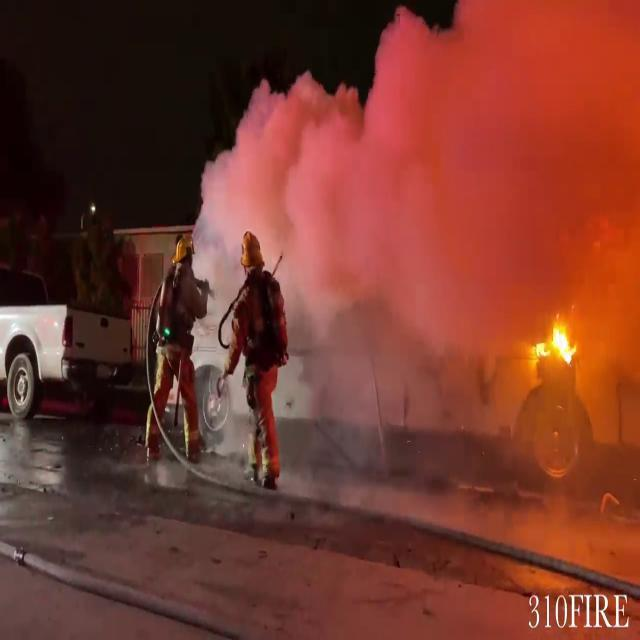Fire: (526, 312, 584, 378)
Smoke: (172, 4, 640, 418)
